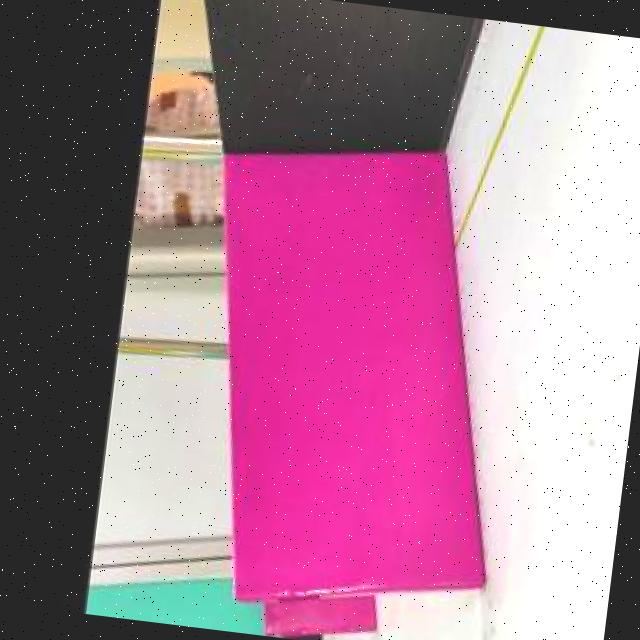xparking: (227, 154, 480, 595), (267, 601, 375, 638)
